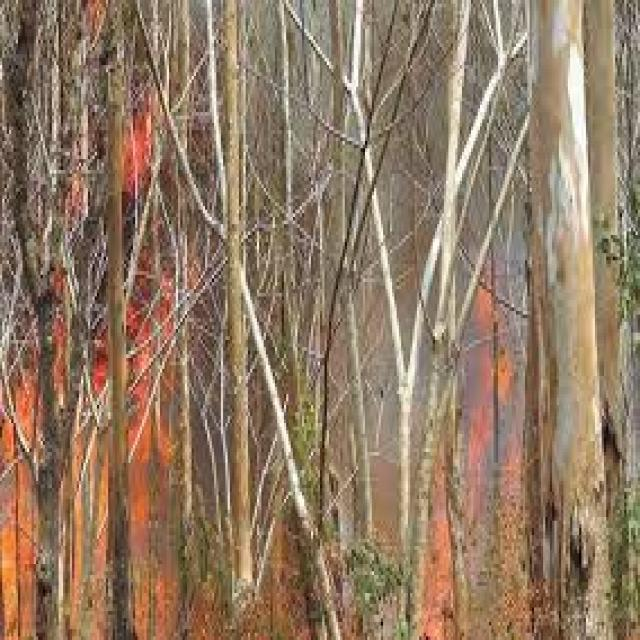Fire: (418, 343, 520, 635), (112, 398, 192, 624), (0, 390, 52, 636), (126, 106, 162, 222)
